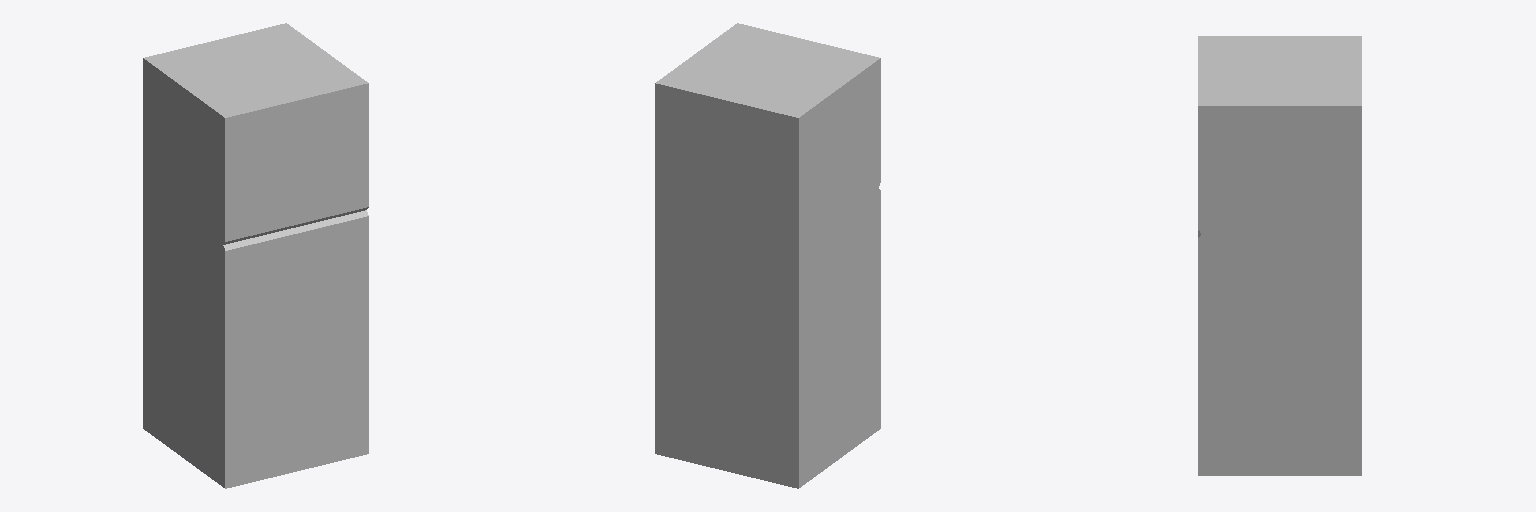
Rendered from fridge.obj.
The picture shows the model from 3 angles: view 1: azimuth 30°, elevation 25°; view 2: azimuth 150°, elevation 25°; view 3: azimuth 270°, elevation 25°; orthographic projection.
Parts seen in each view (by area): view 1: fridge_Cube.008; view 2: fridge_Cube.008; view 3: fridge_Cube.008.
Part boxes in pixels (bbox=[...]): fridge_Cube.008: bbox=[143, 23, 368, 488]; fridge_Cube.008: bbox=[655, 23, 880, 488]; fridge_Cube.008: bbox=[1198, 36, 1361, 475].
Bounding box in the file's own units: 0.7835 × 1.94 × 0.7779.